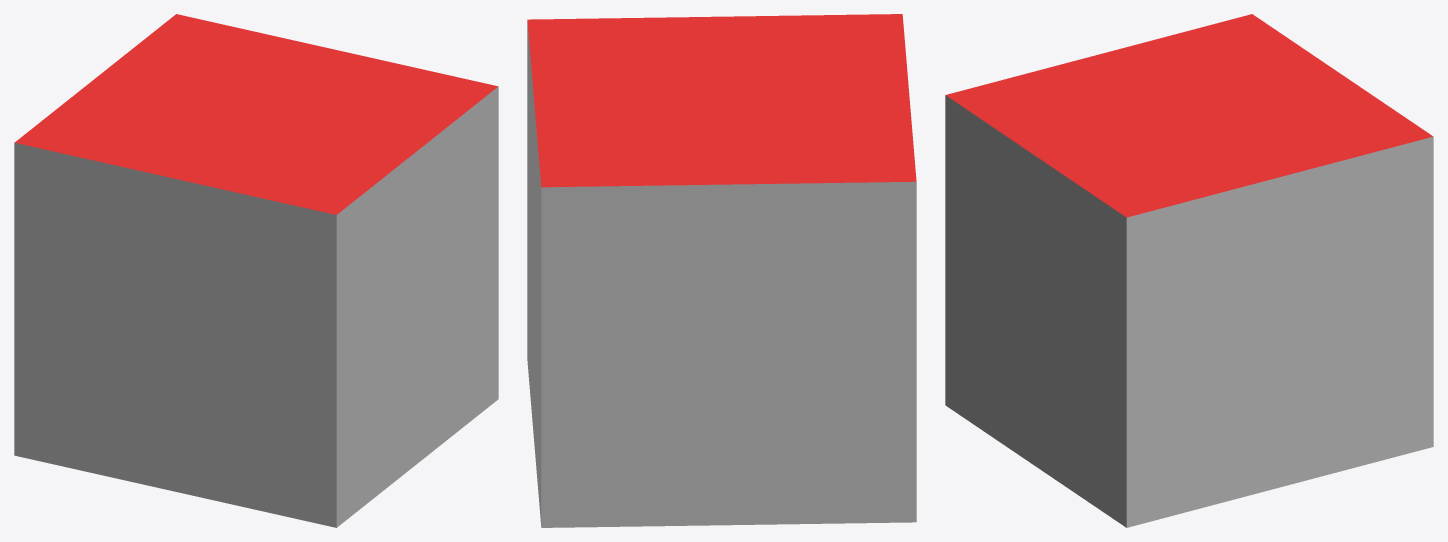
File: ID_4eaf7099-cc4e-4e91-bb9c-1eadea1270f7.dae
3 renders of one model, left to right at view 1: azimuth 30°, elevation 25°; view 2: azimuth 150°, elevation 25°; view 3: azimuth 270°, elevation 25°, orthographic. The views are drawn at different scales.
Size of the model in its own units: 18.31 by 18.55 by 13.01.
